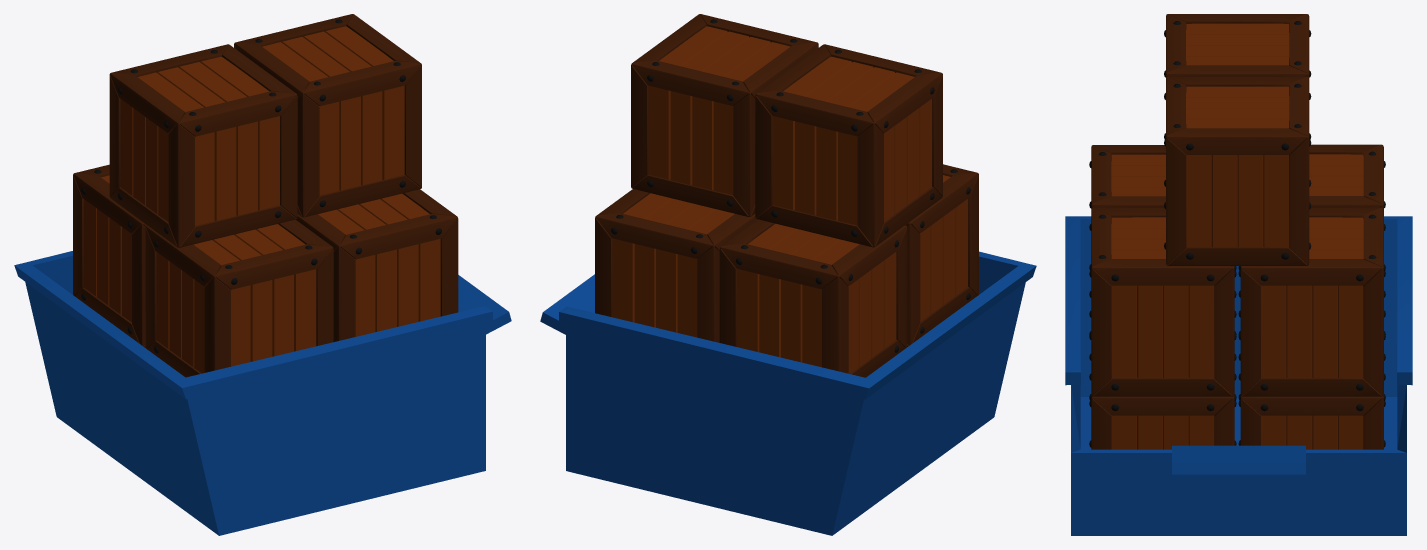
File: Crate_Container_2.fbx
The picture shows the model from 3 angles, left to right: view 1: azimuth 30°, elevation 25°; view 2: azimuth 150°, elevation 25°; view 3: azimuth 270°, elevation 25°; orthographic projection. The views are drawn at different scales.
Parts seen in each view (by area): view 1: Crate_Container, Crate_Layer3, Crate_Layer2; view 2: Crate_Container, Crate_Layer3, Crate_Layer2; view 3: Crate_Layer2, Crate_Container, Crate_Layer3, Crate_Layer1.
Boxes of the visible parts, x1,y1,x2,y2 form: Crate_Container: (14,251,511,535); Crate_Layer3: (109,14,421,247); Crate_Layer2: (73,164,458,377); Crate_Container: (540,251,1036,535); Crate_Layer3: (631,14,942,247); Crate_Layer2: (595,164,978,377); Crate_Layer2: (1089,144,1385,396); Crate_Container: (1065,216,1412,535); Crate_Layer3: (1164,14,1311,265); Crate_Layer1: (1089,290,1385,449).
Size of the model in its own units: 571 by 546 by 436.
